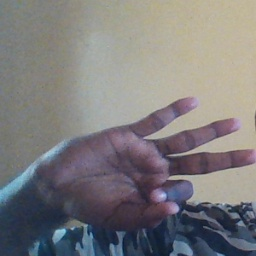K: (36, 96, 256, 232)
